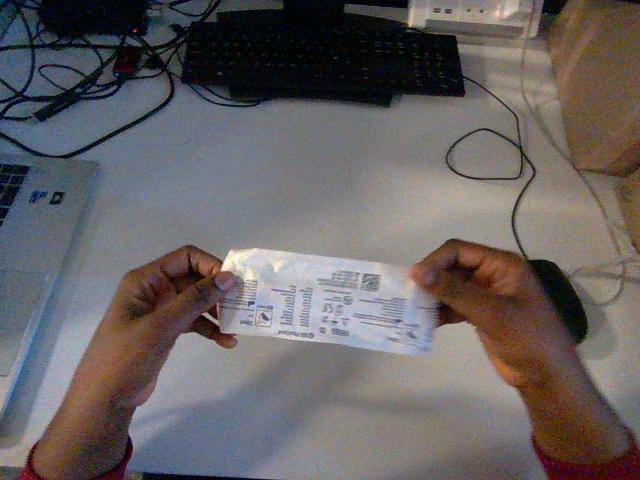syringe: (218, 249, 437, 353)
